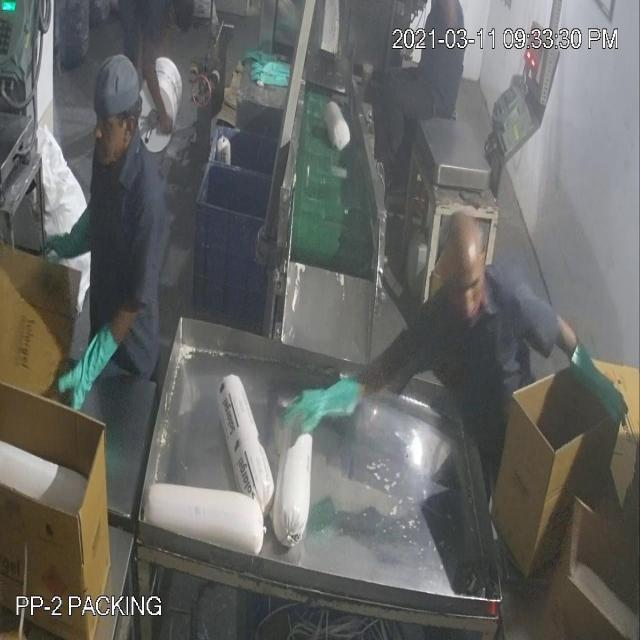Gloves: (62, 72, 602, 404)
